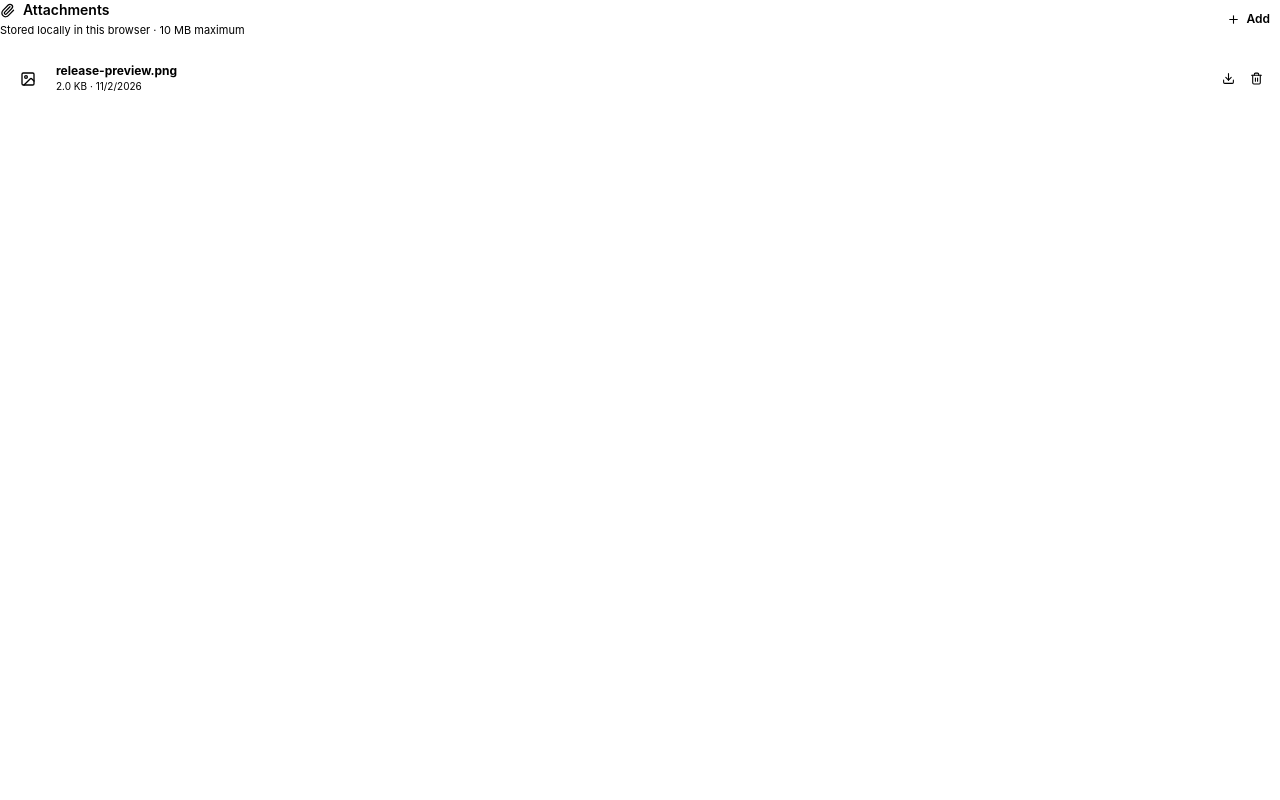
Test: AttachmentSection › opens an accessible image preview and closes it with the labelled control
Click the button named "Preview release-preview.png" at (28, 78), box [10,60,46,96]
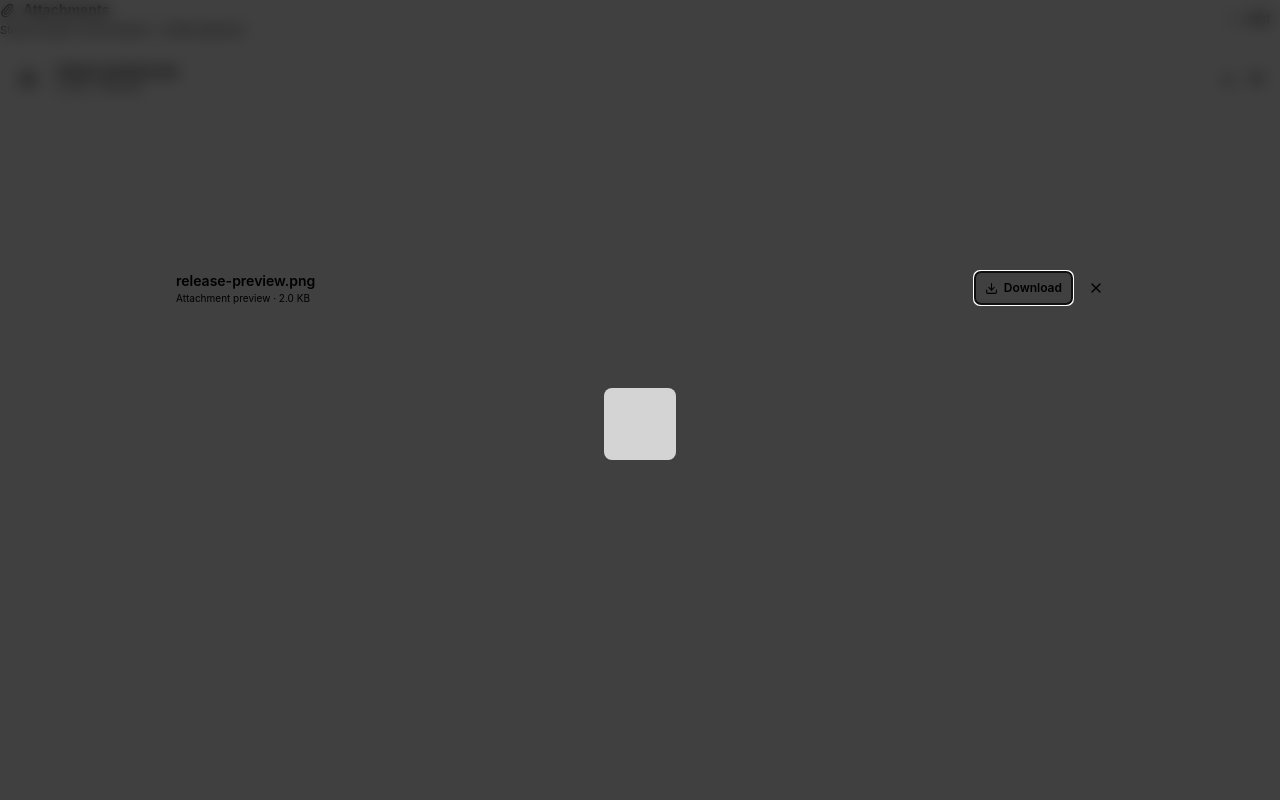
Click the button named "Close attachment preview" at (1096, 288), box [1080,272,1112,304]
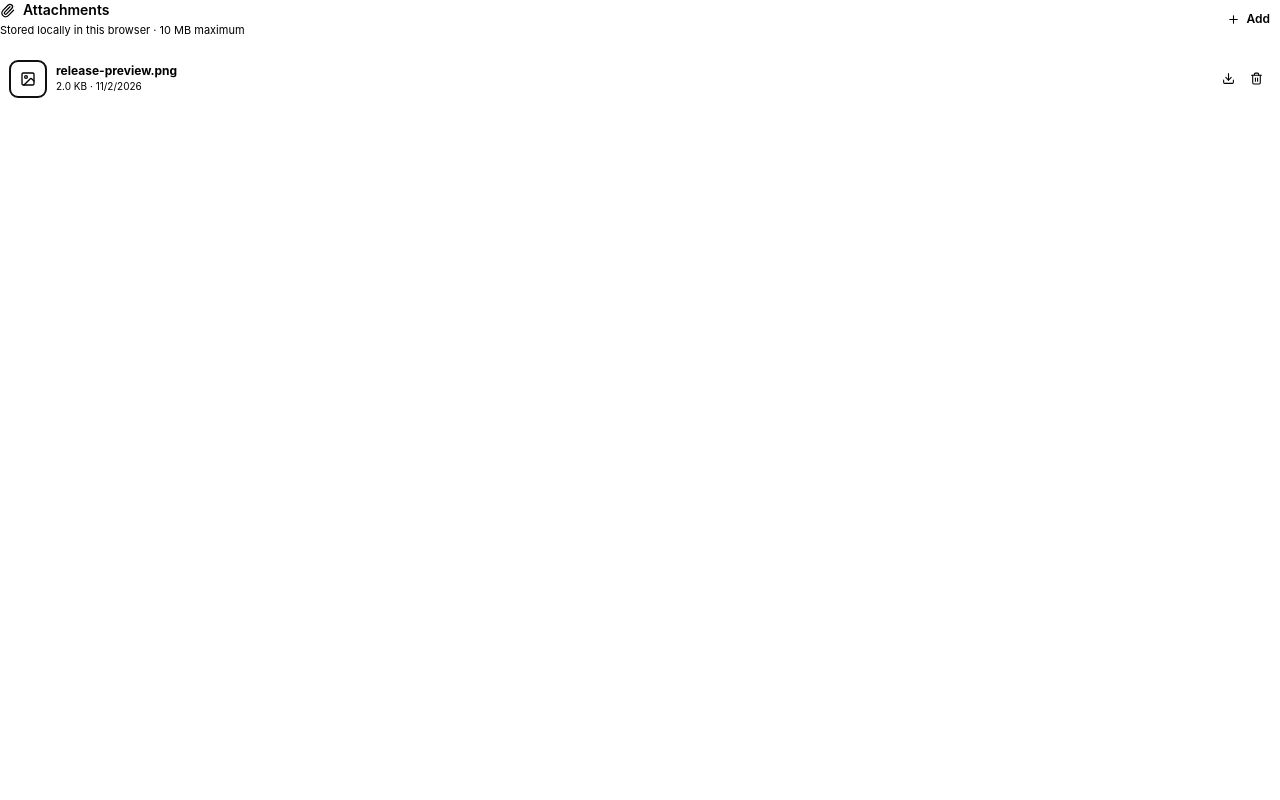
Result: the dialog is gone
